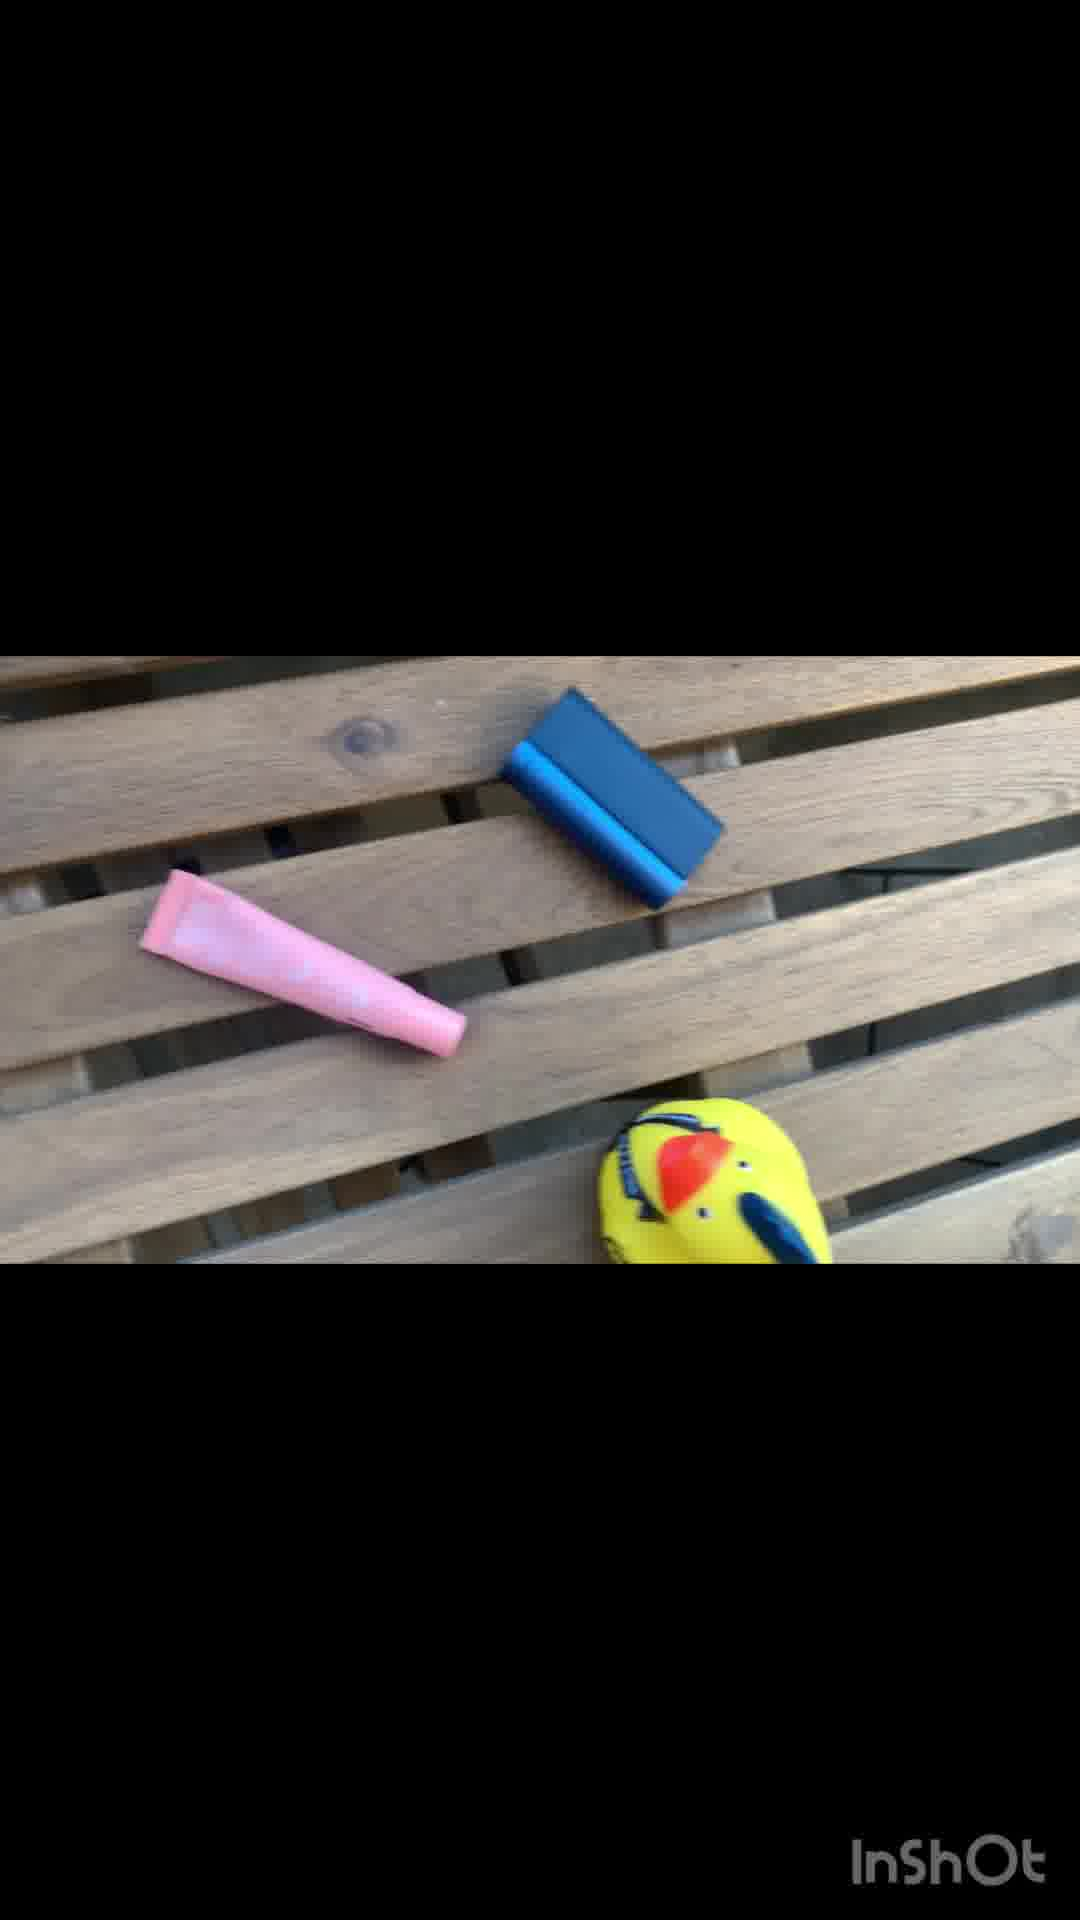duck: (587, 1091, 844, 1265)
glo: (498, 687, 738, 913)
lip balm: (146, 869, 477, 1067)
